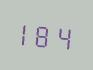eight: (37, 19, 54, 50)
four: (55, 20, 72, 52)
one: (18, 17, 35, 49)
